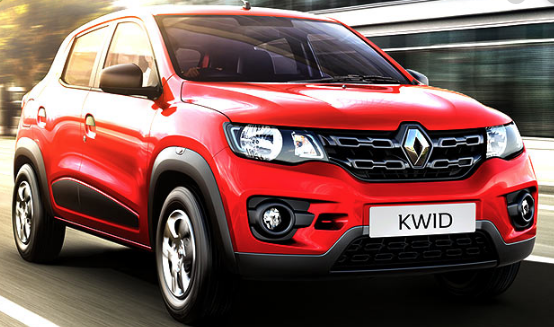car: (8, 5, 539, 315)
